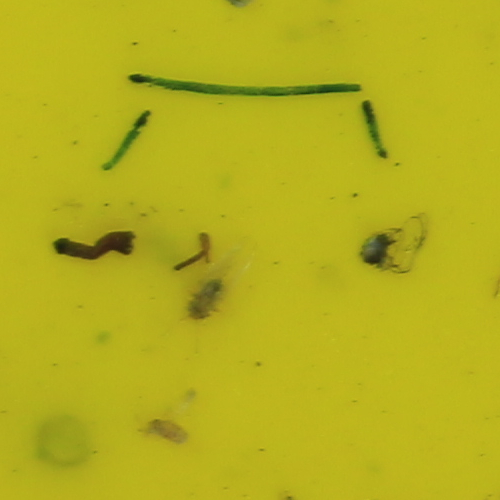Glycaspis: (183, 274, 226, 322)
